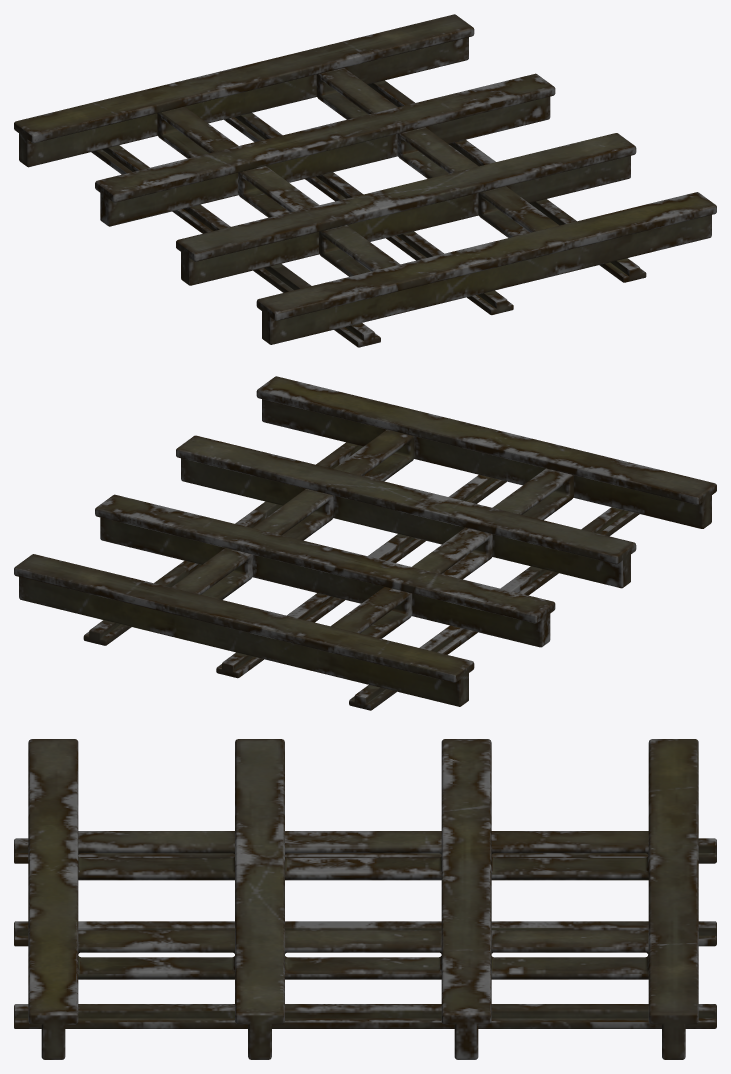
File: SM_Fixtures_Horizontal_Beam3.fbx
3 renders of one model, top to bottom at view 1: azimuth 30°, elevation 25°; view 2: azimuth 150°, elevation 25°; view 3: azimuth 270°, elevation 25°, orthographic. The views are drawn at different scales.
Parts seen in each view (by area): view 1: SM_Fixtures_Horizontal_Beam3_LOD0; view 2: SM_Fixtures_Horizontal_Beam3_LOD0; view 3: SM_Fixtures_Horizontal_Beam3_LOD0.
Part boxes in pixels (box(x1,y1,x2,y2)): SM_Fixtures_Horizontal_Beam3_LOD0: box(14, 14, 716, 347); SM_Fixtures_Horizontal_Beam3_LOD0: box(14, 376, 716, 710); SM_Fixtures_Horizontal_Beam3_LOD0: box(14, 739, 716, 1059).
Bounding box in the file's own units: 167 × 180 × 18.05.
1 material, 1 textured.
